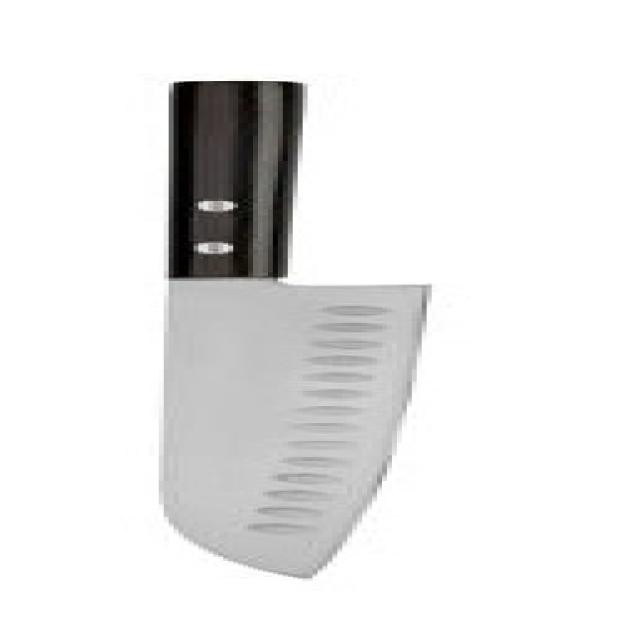knife: (141, 73, 494, 602)
